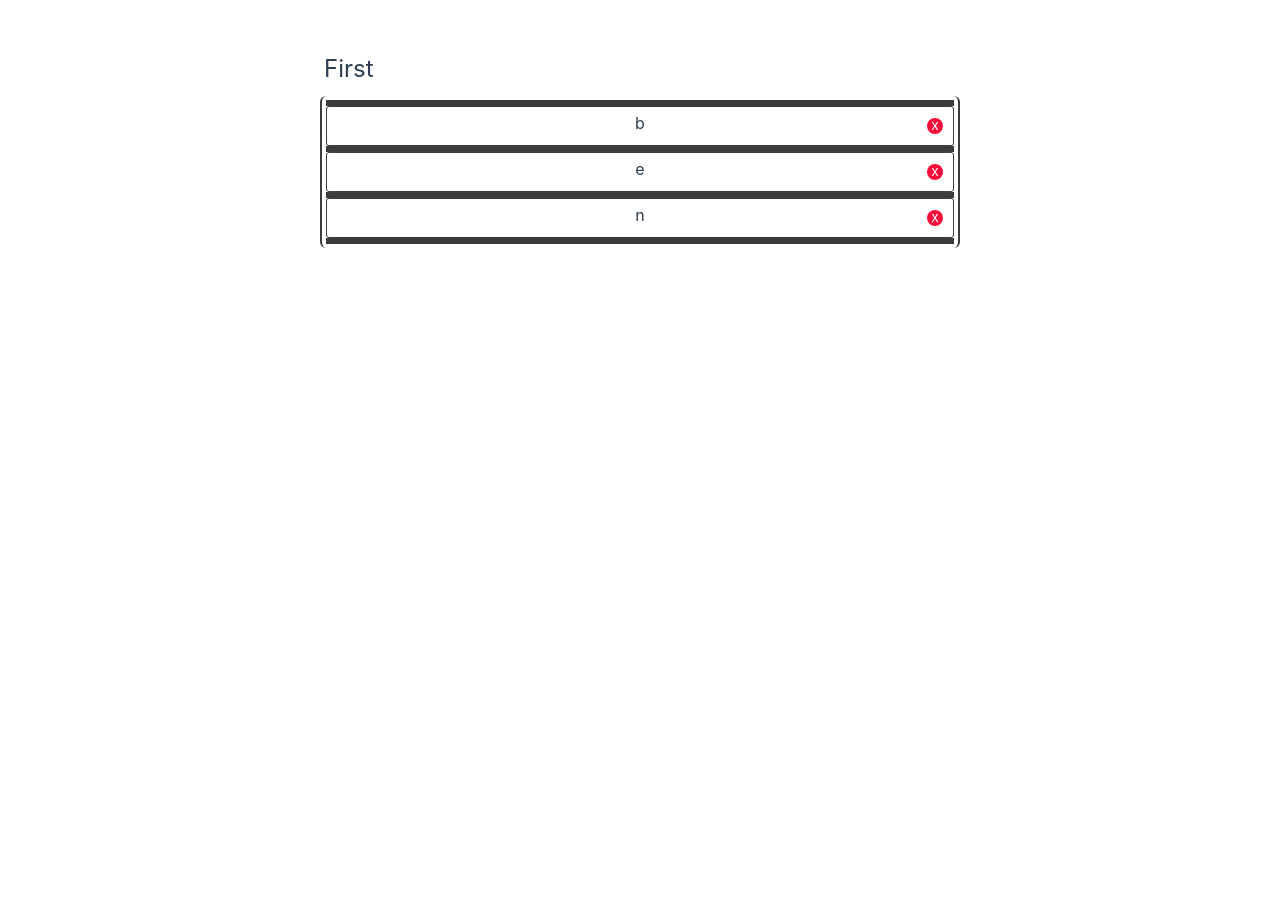
Test: Puzzle view › when the puzzle and the answers exist in the store › when deleting an answer › should update answer indexes properly for deleted elements
Click the 1st button with test id "delete" at (935, 126), box [927,118,943,134]
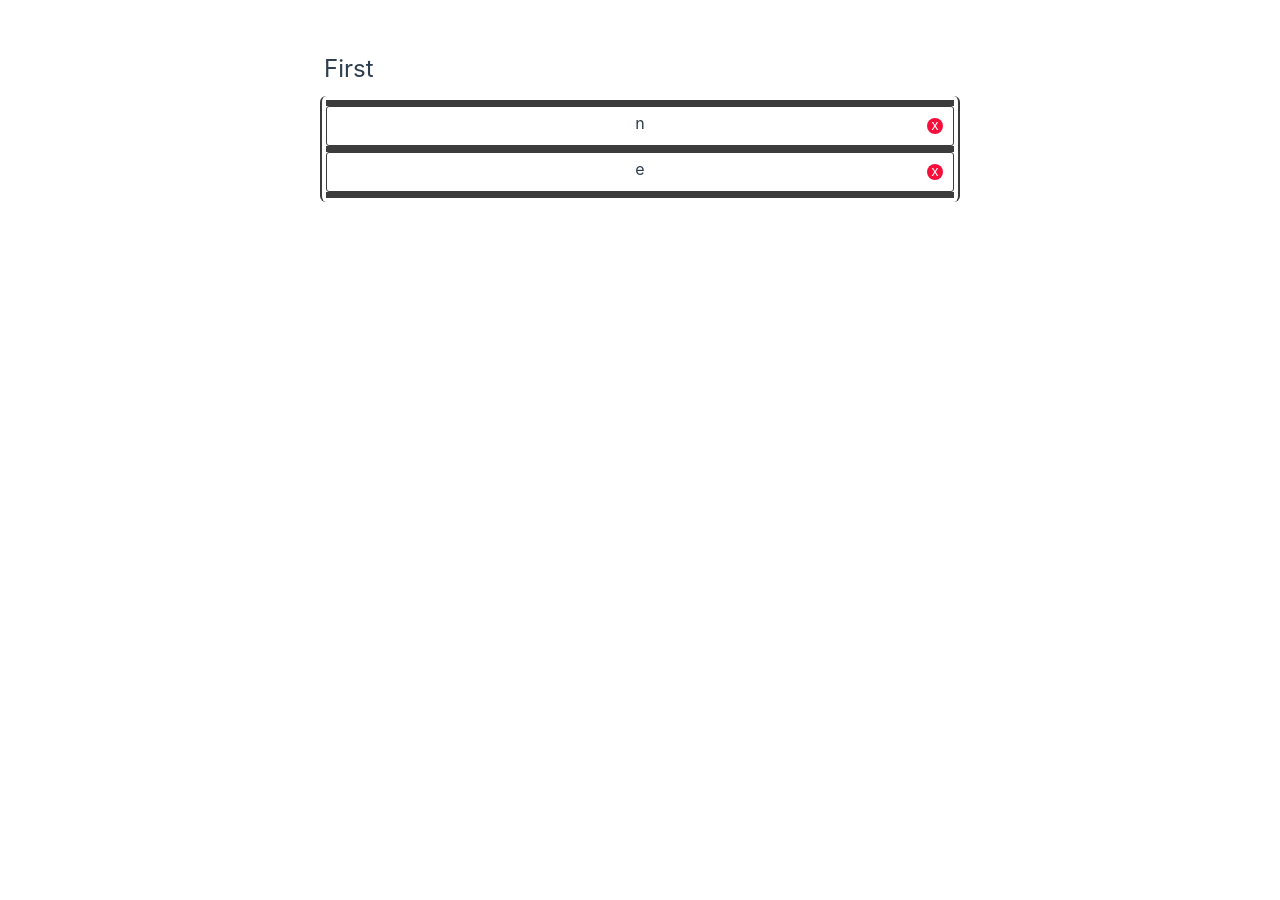
Click the 3rd button with test id "add" at (640, 195), box [326,192,954,198]
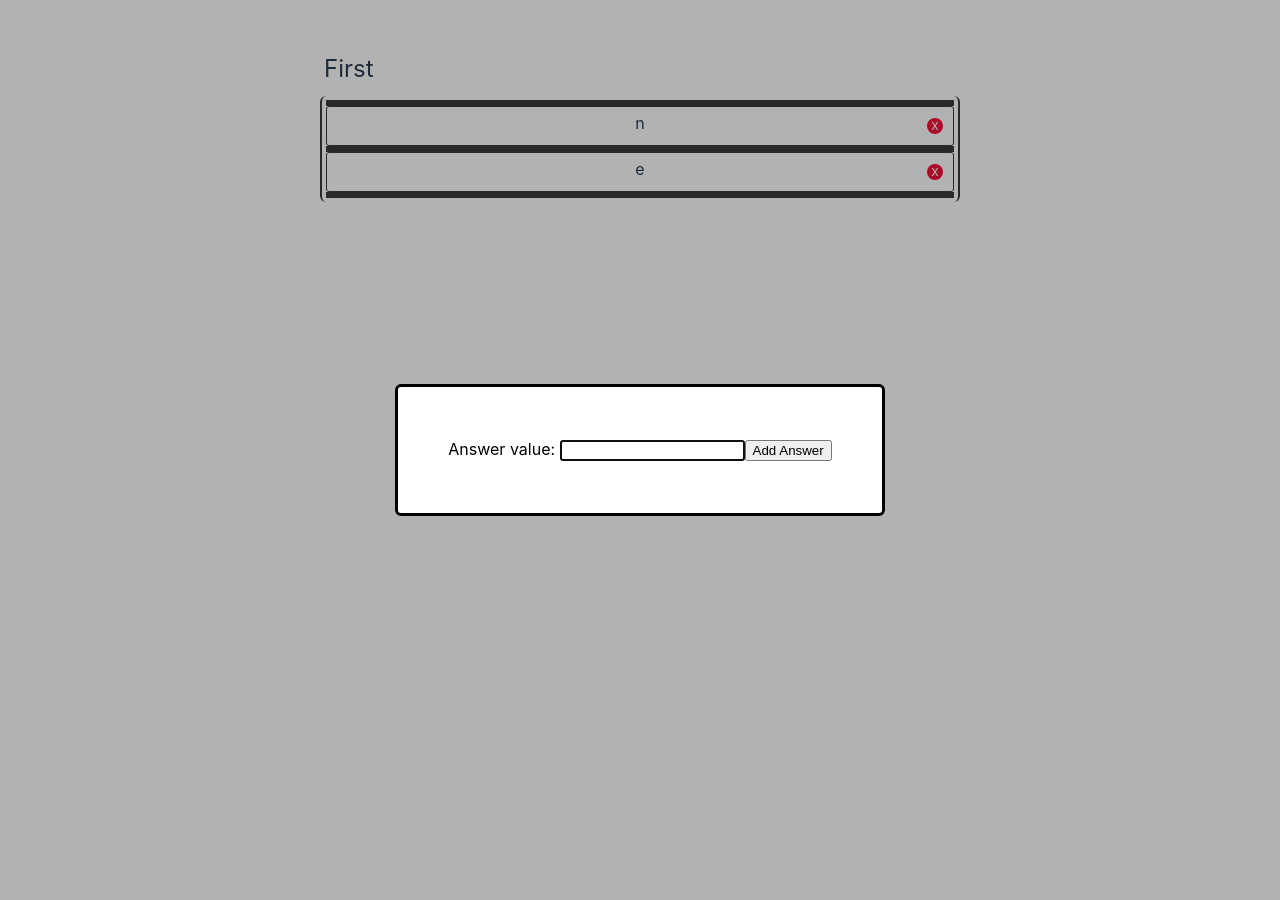
Type "abcd" into the field labelled "Answer value:" at (652, 451), box [560,440,745,461]
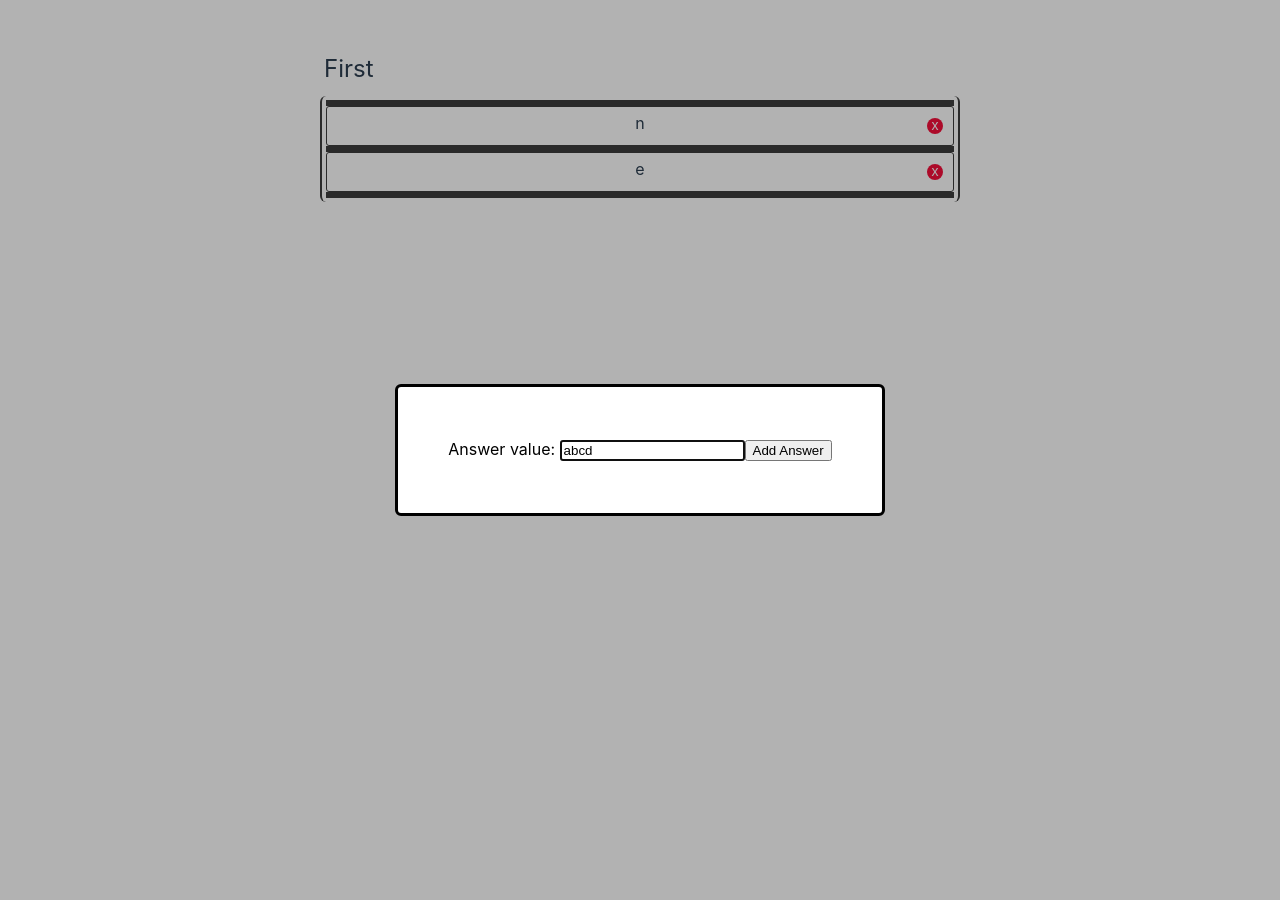
Click the button "Add Answer" at (788, 451), box [745,440,832,461]
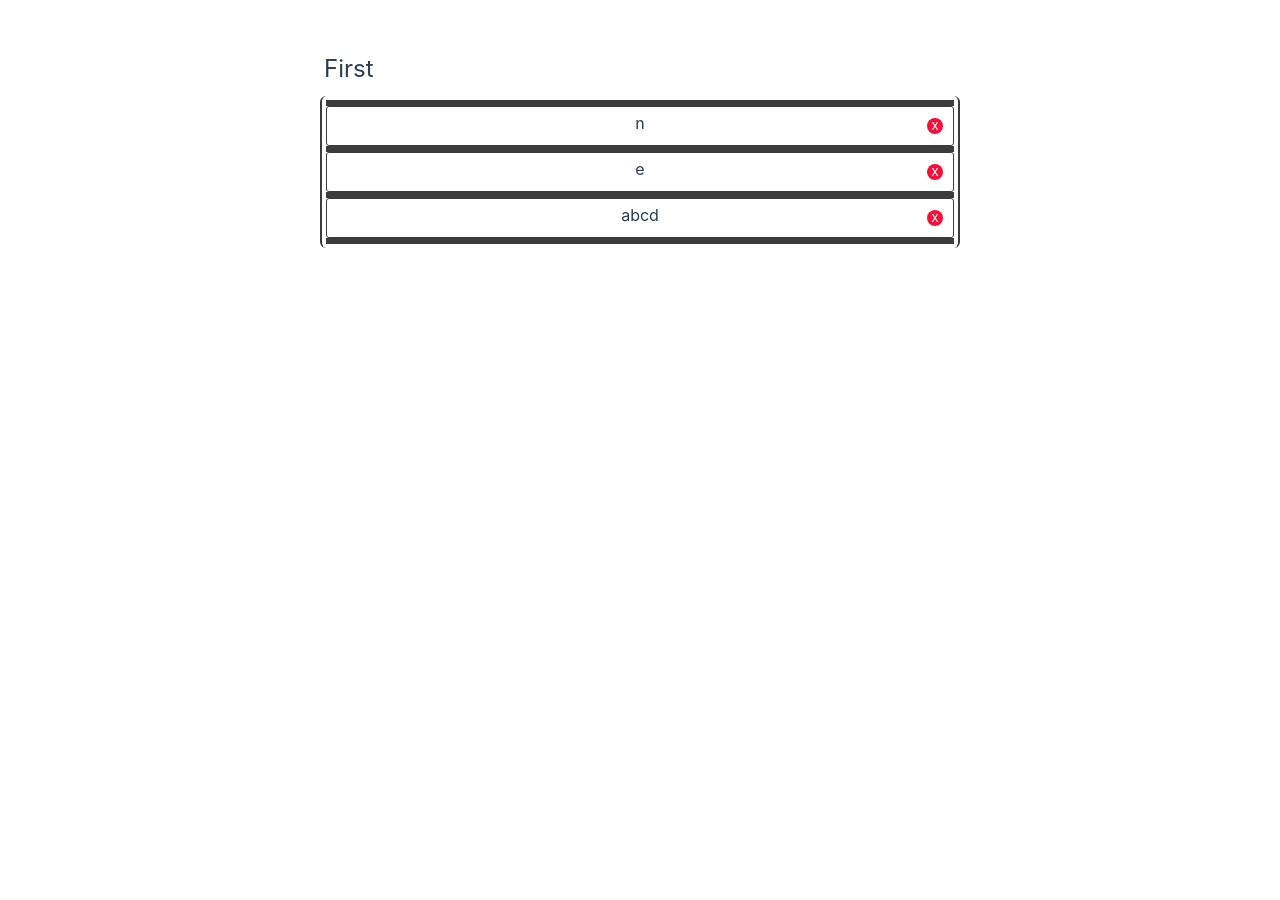
Now the element with class "answer" shows "abcd", box [621,205,659,225]
